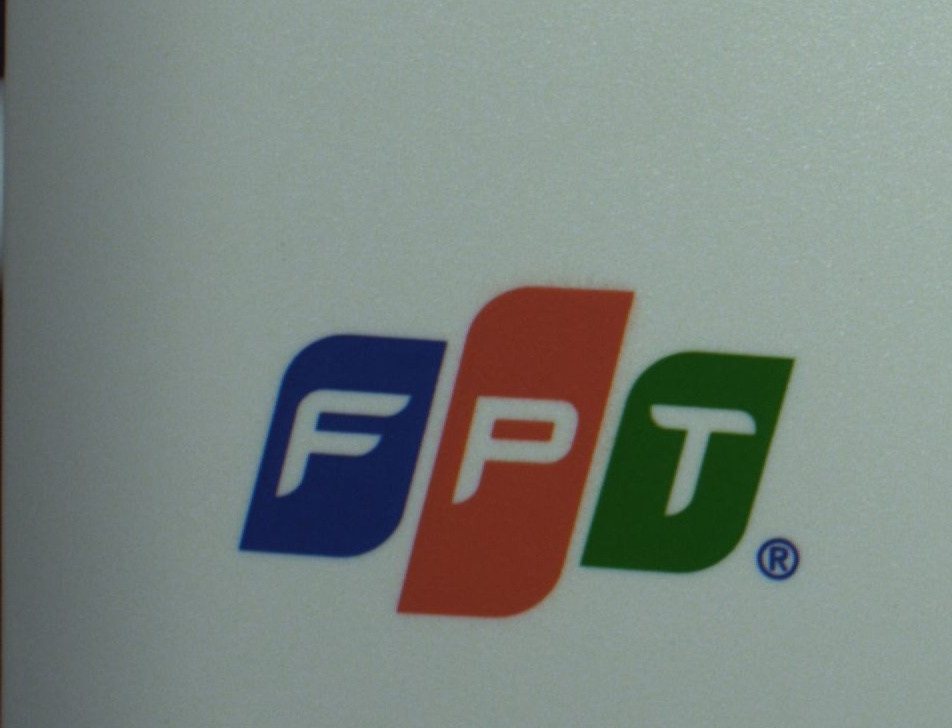BR_FPT: (217, 277, 807, 619)
